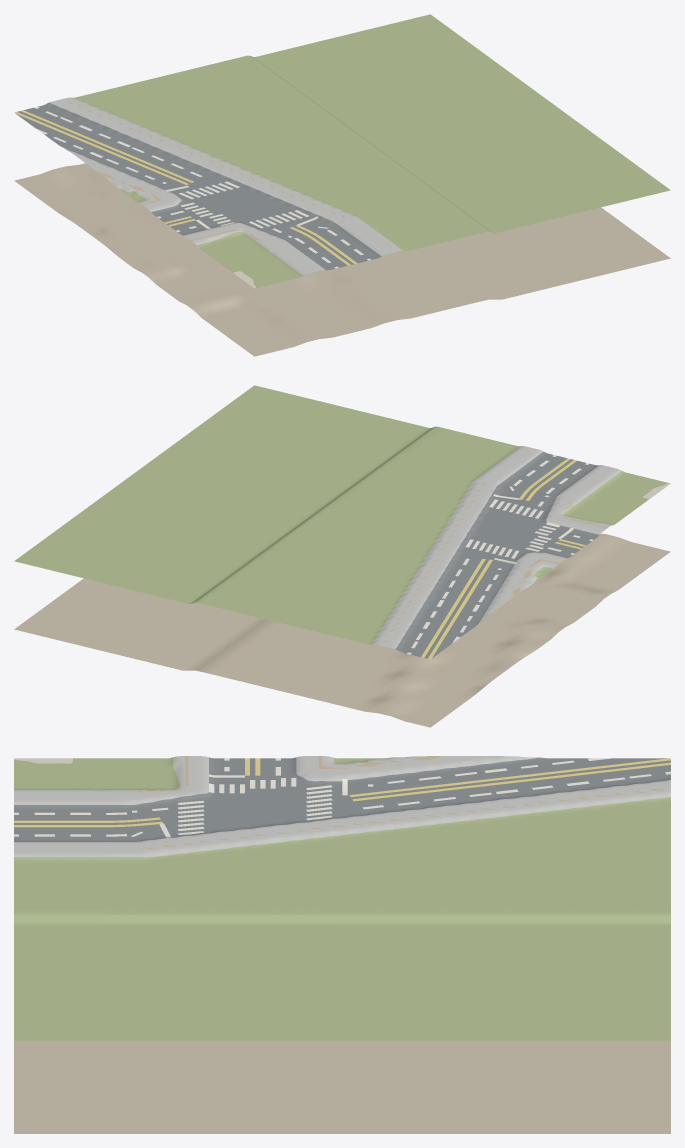
The picture shows the model from 3 angles, top to bottom: view 1: azimuth 30°, elevation 25°; view 2: azimuth 150°, elevation 25°; view 3: azimuth 270°, elevation 25°; orthographic projection. The views are drawn at different scales.
Parts seen in each view (by area): view 1: s_1_-2__grass, s_1_-2__soil, s_1_-2__asphalt, s_1_-2__stone_paving, s_1_-2__white_marking, s_1_-2__yellow_marking, s_1_-2__timber_deck; view 2: s_1_-2__grass, s_1_-2__soil, s_1_-2__asphalt, s_1_-2__stone_paving, s_1_-2__white_marking, s_1_-2__yellow_marking, s_1_-2__timber_deck; view 3: s_1_-2__grass, s_1_-2__soil, s_1_-2__asphalt, s_1_-2__stone_paving, s_1_-2__white_marking, s_1_-2__yellow_marking, s_1_-2__timber_deck.
Boxes of the visible parts, x1,y1,x2,y2 form: s_1_-2__grass: [73, 14, 670, 287]; s_1_-2__soil: [14, 163, 670, 356]; s_1_-2__asphalt: [16, 102, 381, 270]; s_1_-2__stone_paving: [49, 97, 403, 275]; s_1_-2__white_marking: [34, 107, 370, 268]; s_1_-2__yellow_marking: [14, 110, 357, 265]; s_1_-2__timber_deck: [67, 99, 396, 272]; s_1_-2__grass: [14, 385, 669, 644]; s_1_-2__soil: [14, 533, 670, 727]; s_1_-2__asphalt: [395, 451, 599, 658]; s_1_-2__stone_paving: [372, 446, 621, 649]; s_1_-2__white_marking: [407, 455, 593, 654]; s_1_-2__yellow_marking: [421, 458, 585, 659]; s_1_-2__timber_deck: [381, 447, 612, 643]; s_1_-2__grass: [14, 757, 670, 1040]; s_1_-2__soil: [14, 1040, 670, 1133]; s_1_-2__asphalt: [14, 757, 670, 841]; s_1_-2__stone_paving: [14, 756, 670, 857]; s_1_-2__white_marking: [14, 758, 670, 837]; s_1_-2__yellow_marking: [14, 758, 670, 827]; s_1_-2__timber_deck: [36, 756, 665, 851].
Bounding box in the file's own units: 128 × 21.51 × 128.
